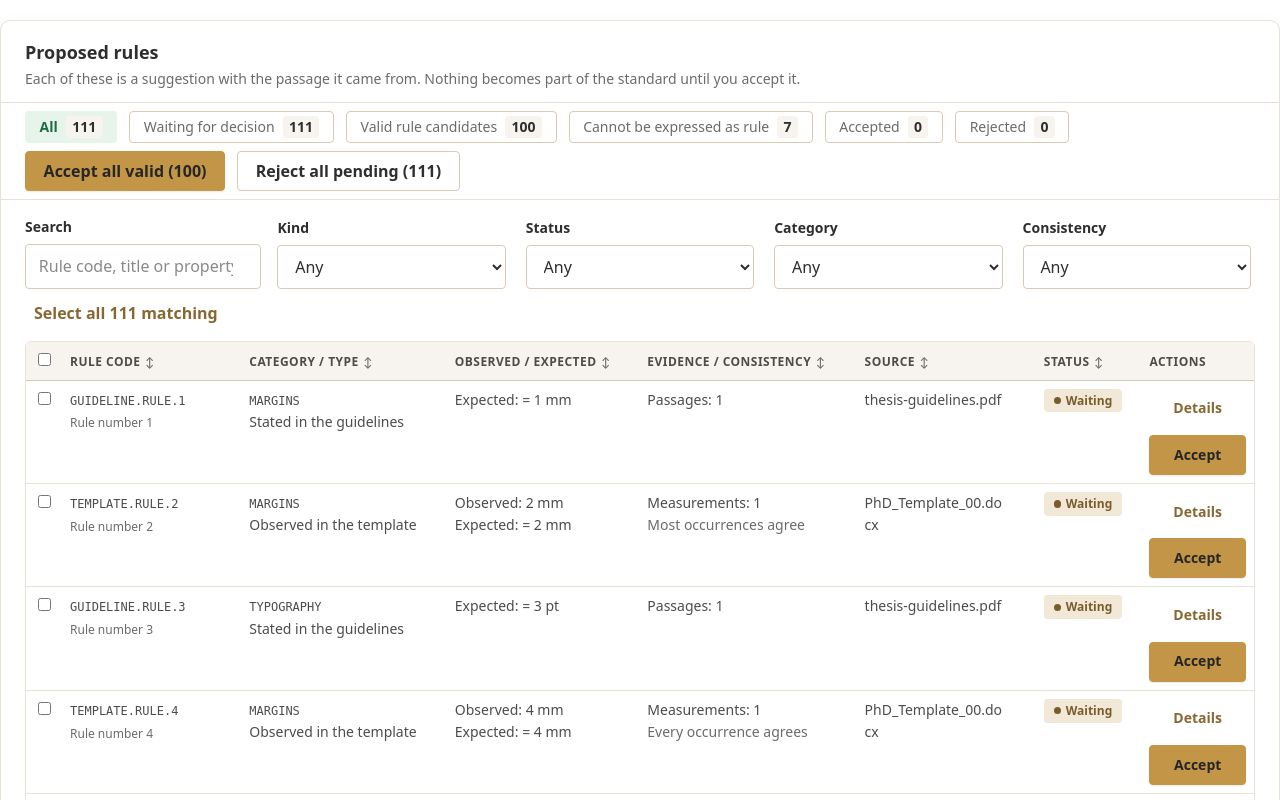
Test: the review console with a 111-proposal reading › accepts the selected ones in one request, sending only those with a valid rule
Expected: the text "GUIDELINE.RULE.1" is shown, [70,394,186,408]
Click the checkbox named "Select GUIDELINE.RULE.1".
click(44, 398)  # box [38,392,51,405]
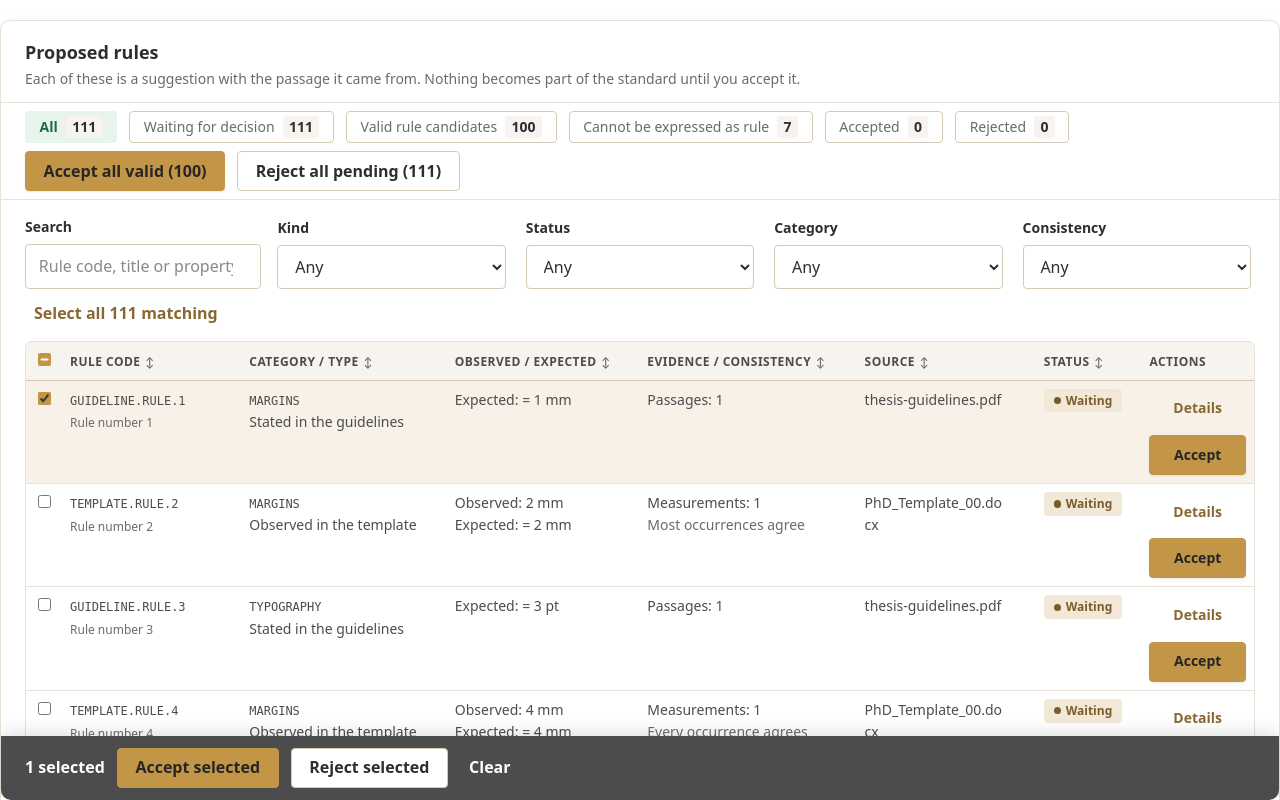
Click the checkbox named "Select TEMPLATE.RULE.2".
click(44, 502)  # box [38,495,51,508]
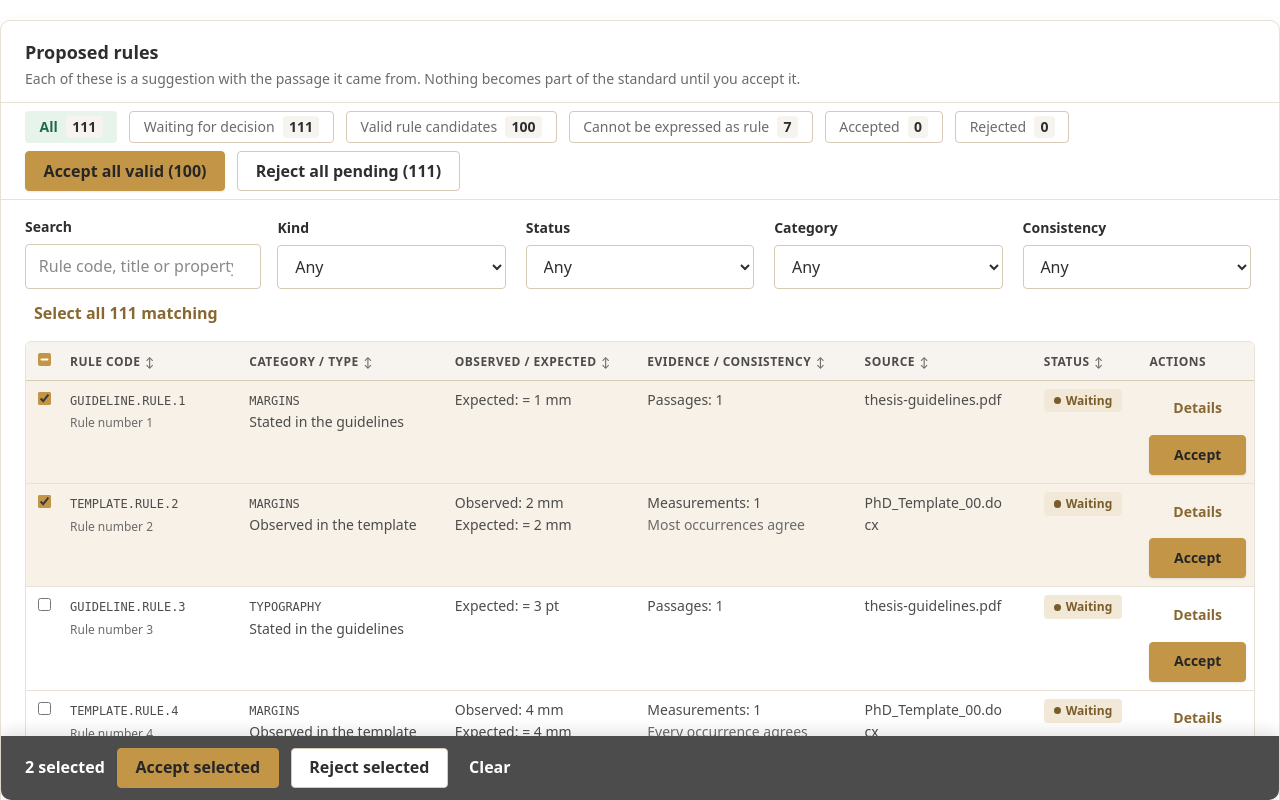
Select "Needs clarification" in the dropdown labelled "Kind" at coordinates (392, 268), box [277,246,506,290]
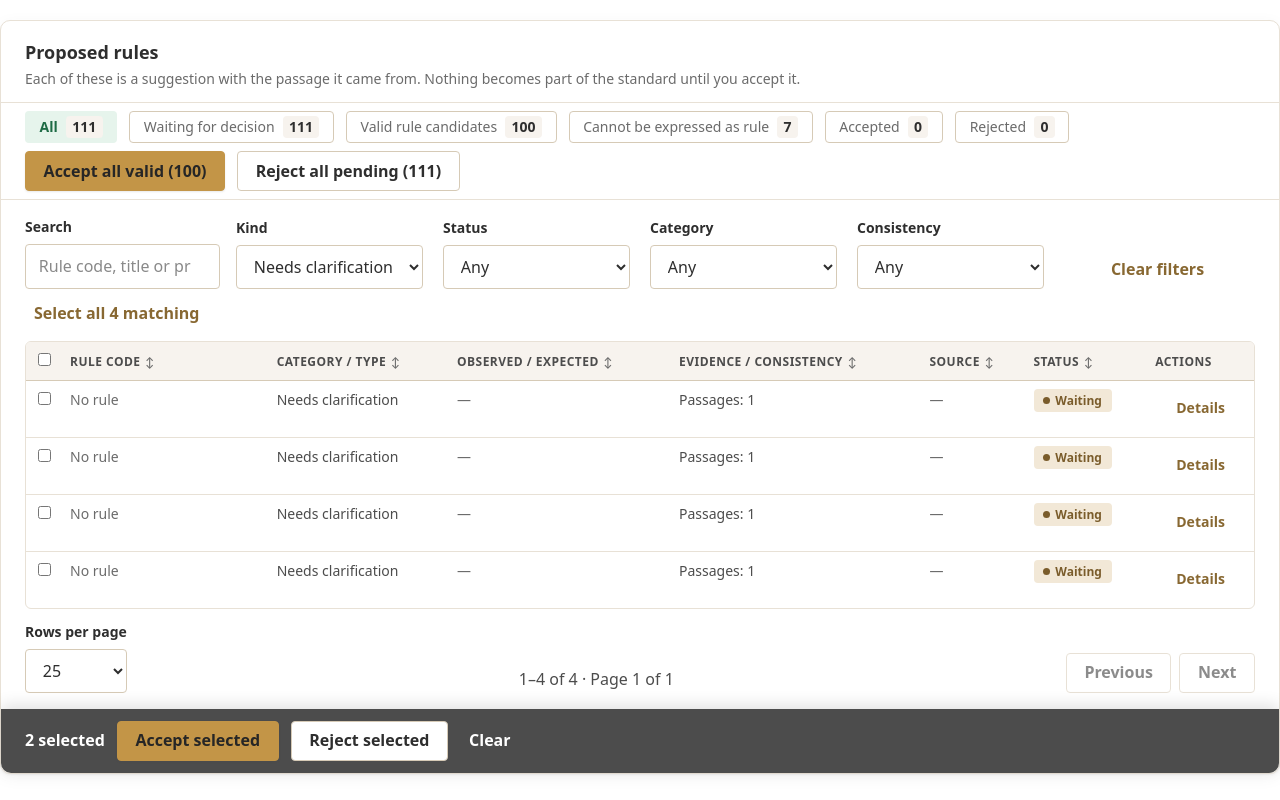
Click the 1st checkbox named "Select ".
click(44, 398)  # box [38,392,51,405]
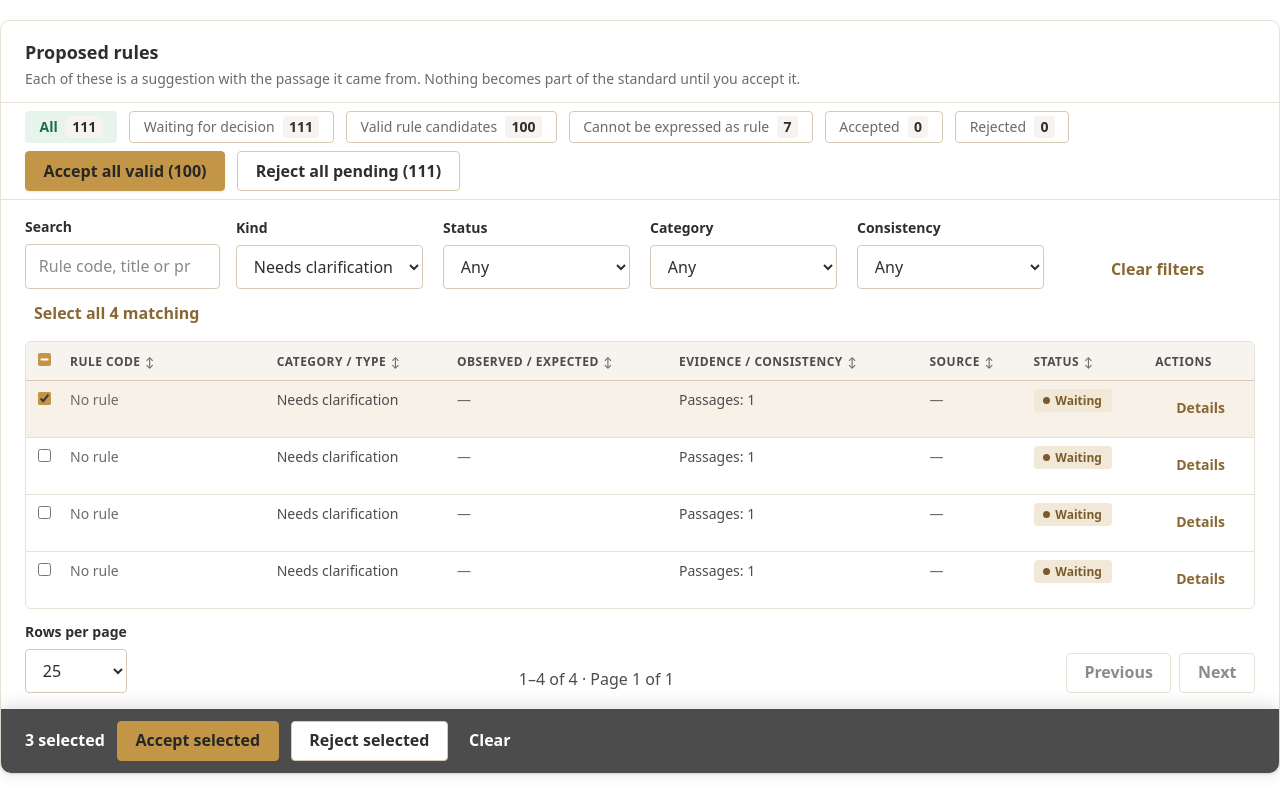
Click the button "Accept selected".
click(198, 741)  # box [117,721,279,761]
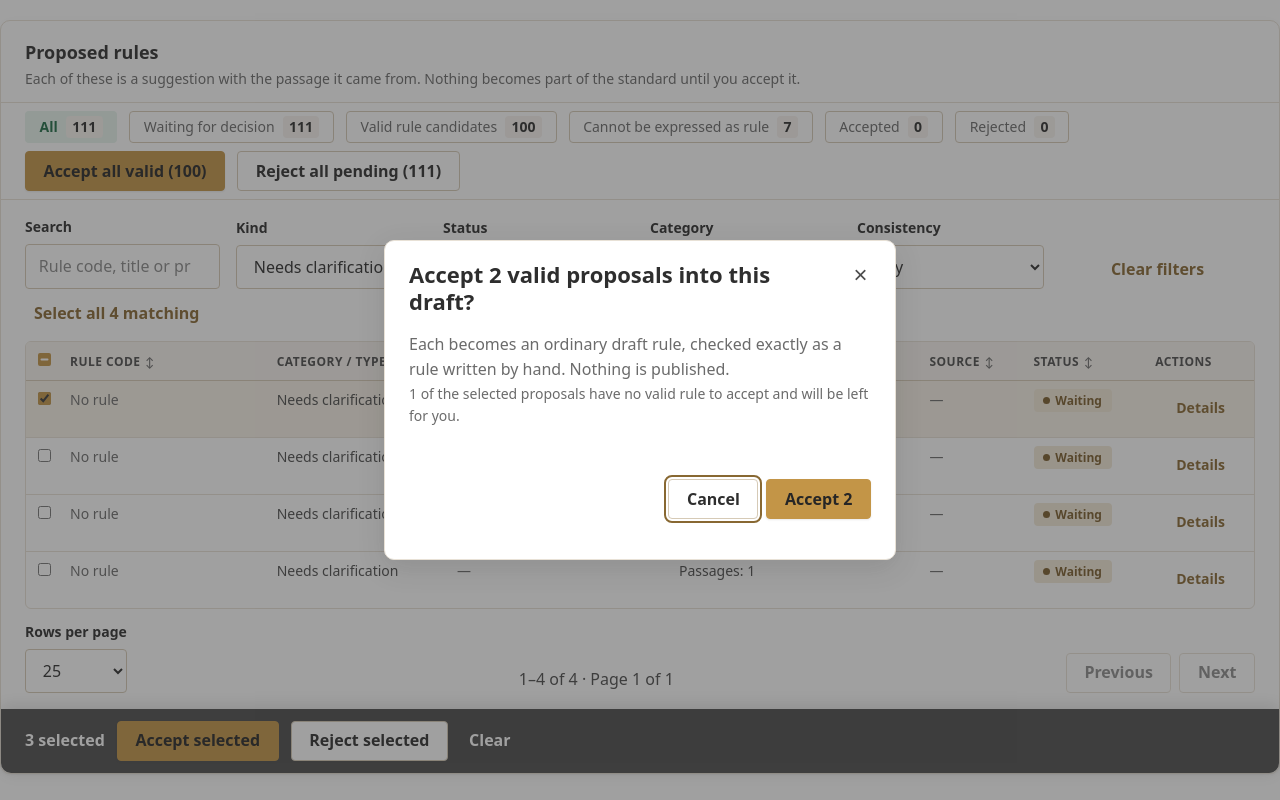
Expected: the dialog shows "Accept 2 valid proposals into this draft?", [409,258,770,316]
Expected: the dialog shows "1 of the selected proposals have no valid rule", [409,384,868,425]
Click the button "Accept 2".
click(819, 500)  # box [766,480,871,520]
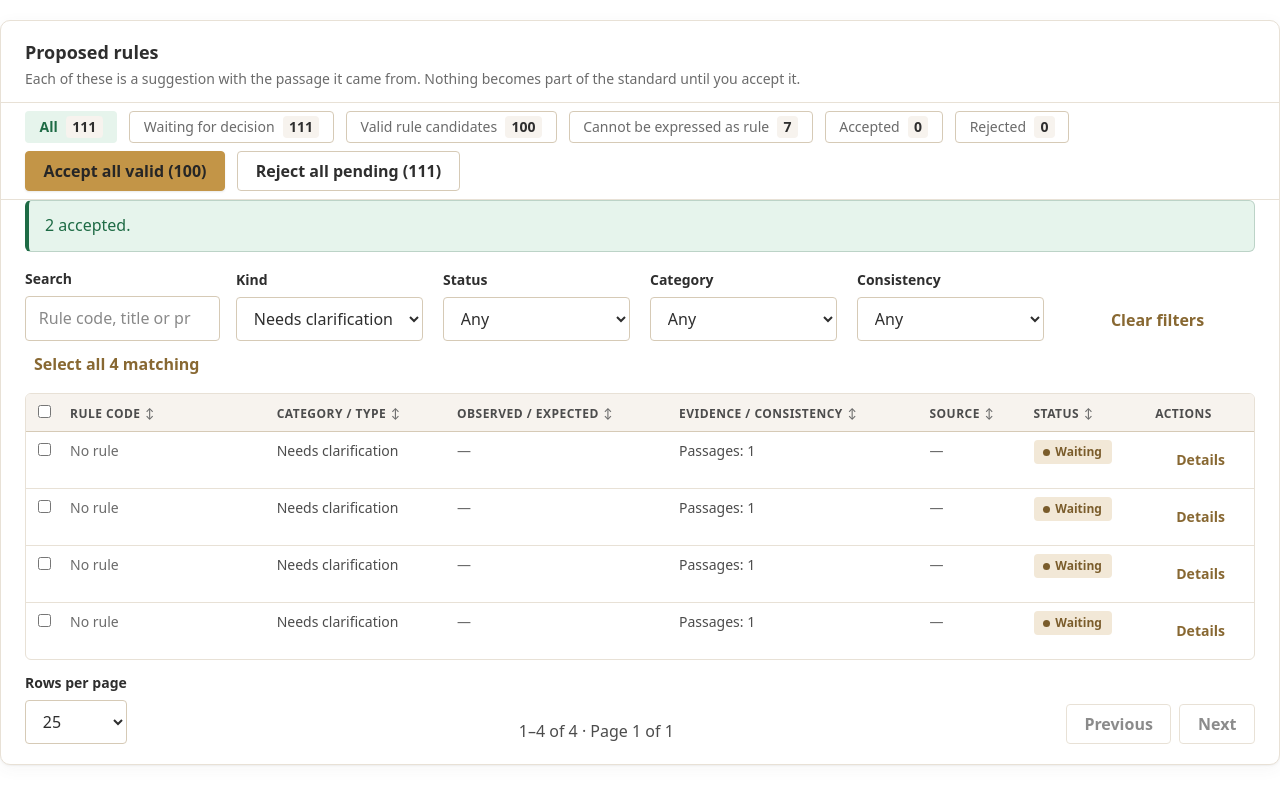
Expected: the text "2 accepted." is shown, [45,214,130,236]
